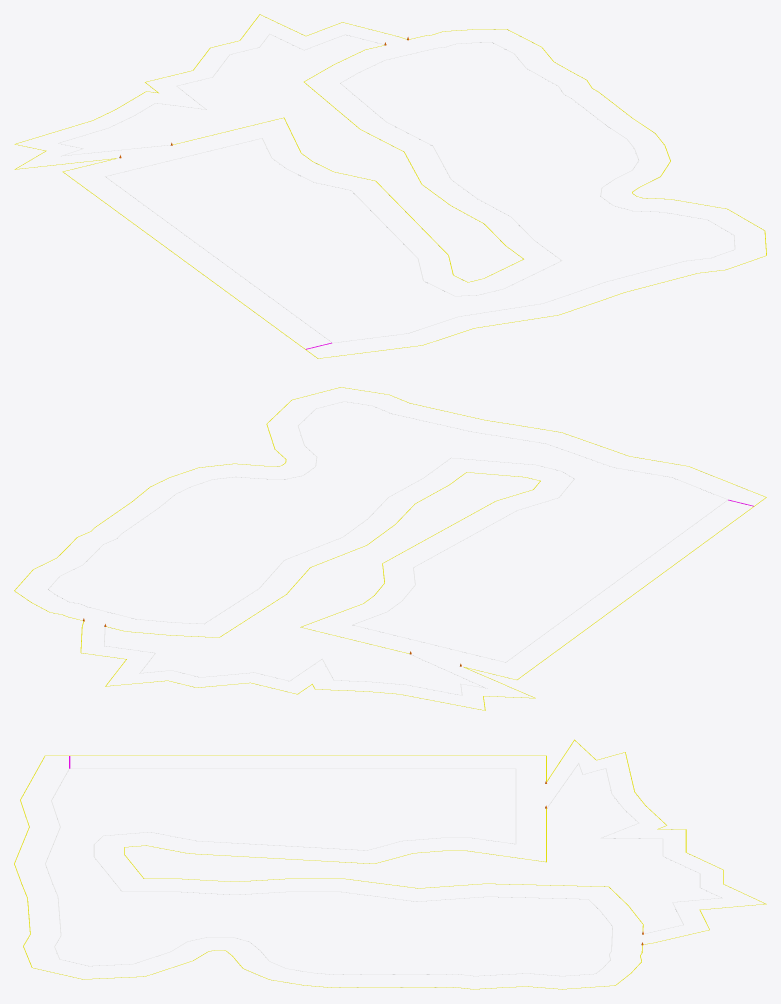
File: CircuitRaceTrack.dae
3 renders of one model, top to bottom at view 1: azimuth 30°, elevation 25°; view 2: azimuth 150°, elevation 25°; view 3: azimuth 270°, elevation 25°, orthographic. The views are drawn at different scales.
Parts seen in each view (by area): view 1: inner1_Paint_-_Enamel_Glossy_(White), Outer1_Paint_-_Enamel_Glossy_(Yellow), Outer2In_Paint_-_Enamel_Glossy_(Yellow), inner2_Paint_-_Enamel_Glossy_(White); view 2: inner1_Paint_-_Enamel_Glossy_(White), Outer1_Paint_-_Enamel_Glossy_(Yellow), Outer2In_Paint_-_Enamel_Glossy_(Yellow), inner2_Paint_-_Enamel_Glossy_(White); view 3: inner1_Paint_-_Enamel_Glossy_(White), Outer1_Paint_-_Enamel_Glossy_(Yellow), Outer2In_Paint_-_Enamel_Glossy_(Yellow), inner2_Paint_-_Enamel_Glossy_(White).
Boxes of the visible parts, <box> form: inner1_Paint_-_Enamel_Glossy_(White): <box>105,42,735,343</box>; Outer1_Paint_-_Enamel_Glossy_(Yellow): <box>14,14,766,358</box>; Outer2In_Paint_-_Enamel_Glossy_(Yellow): <box>173,45,523,282</box>; inner2_Paint_-_Enamel_Glossy_(White): <box>58,33,384,156</box>; inner1_Paint_-_Enamel_Glossy_(White): <box>48,401,727,662</box>; Outer1_Paint_-_Enamel_Glossy_(Yellow): <box>14,387,766,710</box>; Outer2In_Paint_-_Enamel_Glossy_(Yellow): <box>106,472,540,653</box>; inner2_Paint_-_Enamel_Glossy_(White): <box>104,627,486,695</box>; inner1_Paint_-_Enamel_Glossy_(White): <box>45,768,612,976</box>; Outer1_Paint_-_Enamel_Glossy_(Yellow): <box>14,739,766,989</box>; Outer2In_Paint_-_Enamel_Glossy_(Yellow): <box>124,808,643,931</box>; inner2_Paint_-_Enamel_Glossy_(White): <box>547,763,721,933</box>.
Size of the model in its own units: 39.68 by 50.5 by 0.2286.
